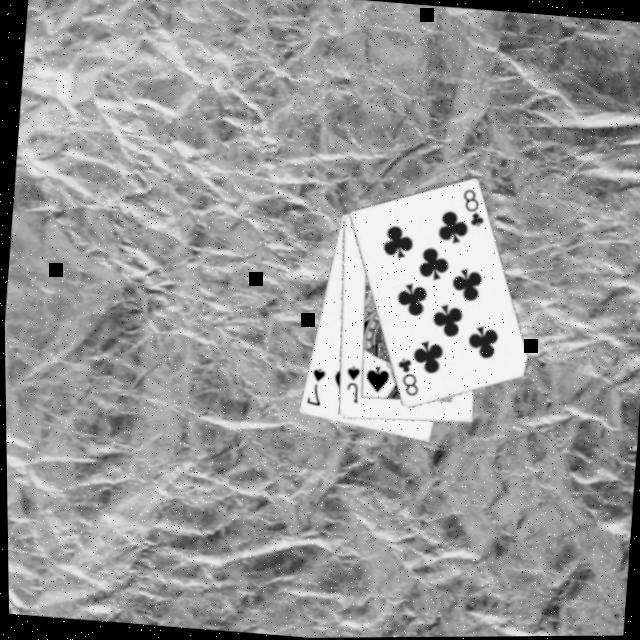7S: (298, 363, 325, 409)
8C: (453, 185, 487, 231), (388, 353, 421, 399)
JS: (337, 362, 361, 405)
